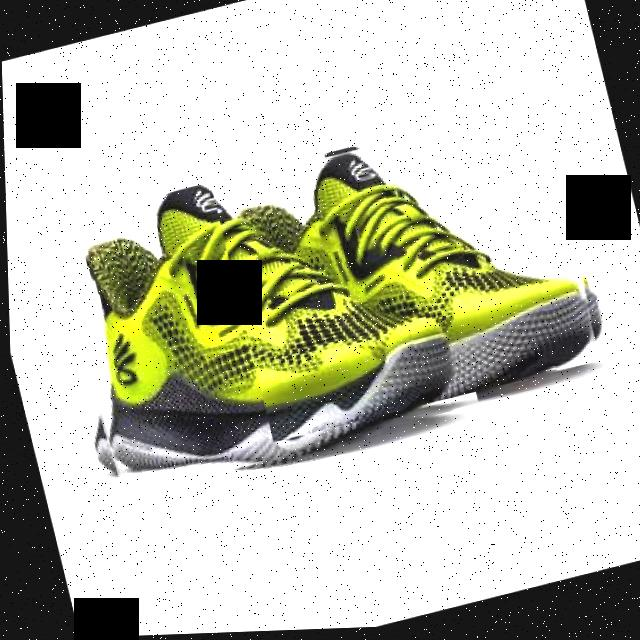shoe: (36, 132, 479, 507), (207, 101, 611, 446)
